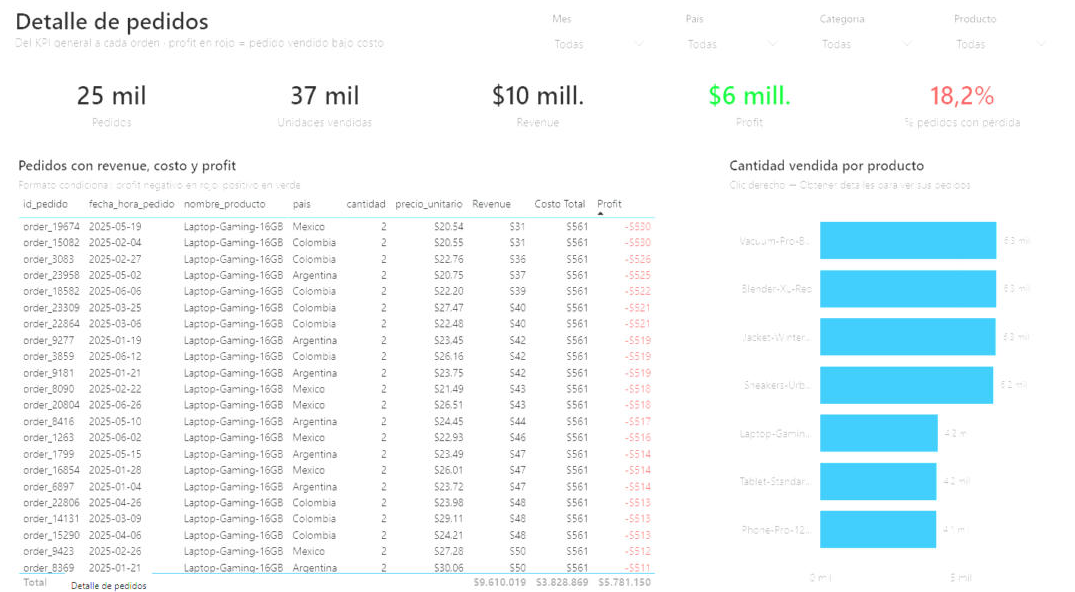

Layout of this report page (visuals, bound fields, positions):
{"tool":"powerbi","page":{"name":"Detalle de pedidos","canvas":[1280,720],"ordinal":1},"visuals":[{"type":"textbox","box":[24,10,600,62],"z":0},{"type":"slicer","fields":{"Values":["dim_fecha.Mes"]},"box":[640,14,146,58],"z":100},{"type":"slicer","fields":{"Values":["dim_pais.pais"]},"box":[796,14,146,58],"z":101},{"type":"slicer","fields":{"Values":["catalog.categoria_producto"]},"box":[953,14,146,58],"z":102},{"type":"slicer","fields":{"Values":["catalog.nombre_producto"]},"box":[1110,14,146,58],"z":103},{"type":"card","fields":{"Values":["orders.Pedidos"]},"box":[24,84,237,92],"z":200},{"type":"card","fields":{"Values":["orders.Unidades"]},"box":[273,84,237,92],"z":201},{"type":"card","fields":{"Values":["orders.Revenue"]},"box":[522,84,237,92],"z":202},{"type":"card","fields":{"Values":["orders.Profit"]},"box":[770,84,237,92],"z":203},{"type":"card","fields":{"Values":["orders.% Pedidos con Pérdida"]},"box":[1019,84,237,92],"z":204},{"type":"tableEx","title":"Pedidos con revenue, costo y profit","fields":{"Values":["orders.id_pedido","orders.fecha_hora_pedido","catalog.nombre_producto","orders.pais","orders.cantidad","orders.precio_unitario","orders.Revenue","orders.Costo Total","orders.Profit"]},"box":[24,188,820,520],"z":300},{"type":"clusteredBarChart","title":"Cantidad vendida por producto","fields":{"Category":["catalog.nombre_producto"],"Y":["orders.Unidades"]},"box":[856,188,400,520],"z":301}]}

Visuals, with their boxes in screenshot pixels (x1, y1, x2, y2), scaled from the page's 1280x720 canvas onto the 1075x592 screenshot:
textbox: l=20, t=8, r=524, b=59
slicer - dim_fecha.Mes: l=538, t=12, r=660, b=59
slicer - dim_pais.pais: l=669, t=12, r=791, b=59
slicer - catalog.categoria_producto: l=800, t=12, r=923, b=59
slicer - catalog.nombre_producto: l=932, t=12, r=1055, b=59
card - orders.Pedidos: l=20, t=69, r=219, b=145
card - orders.Unidades: l=229, t=69, r=428, b=145
card - orders.Revenue: l=438, t=69, r=637, b=145
card - orders.Profit: l=647, t=69, r=846, b=145
card - orders.% Pedidos con Pérdida: l=856, t=69, r=1055, b=145
"Pedidos con revenue, costo y profit" tableEx: l=20, t=155, r=709, b=582
"Cantidad vendida por producto" clusteredBarChart: l=719, t=155, r=1055, b=582
